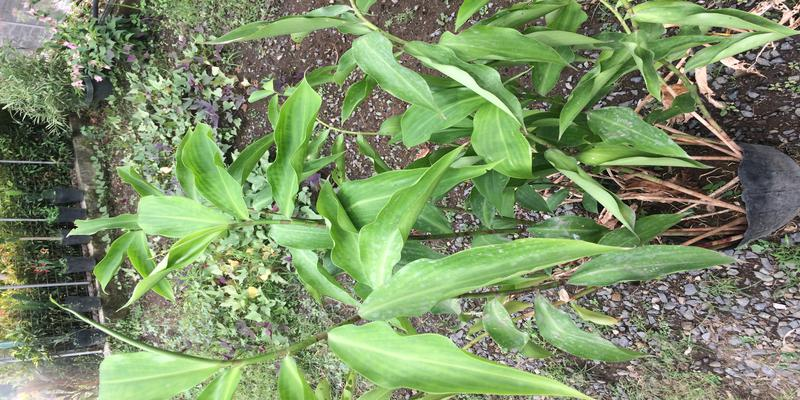Insulin: (268, 55, 740, 382)
